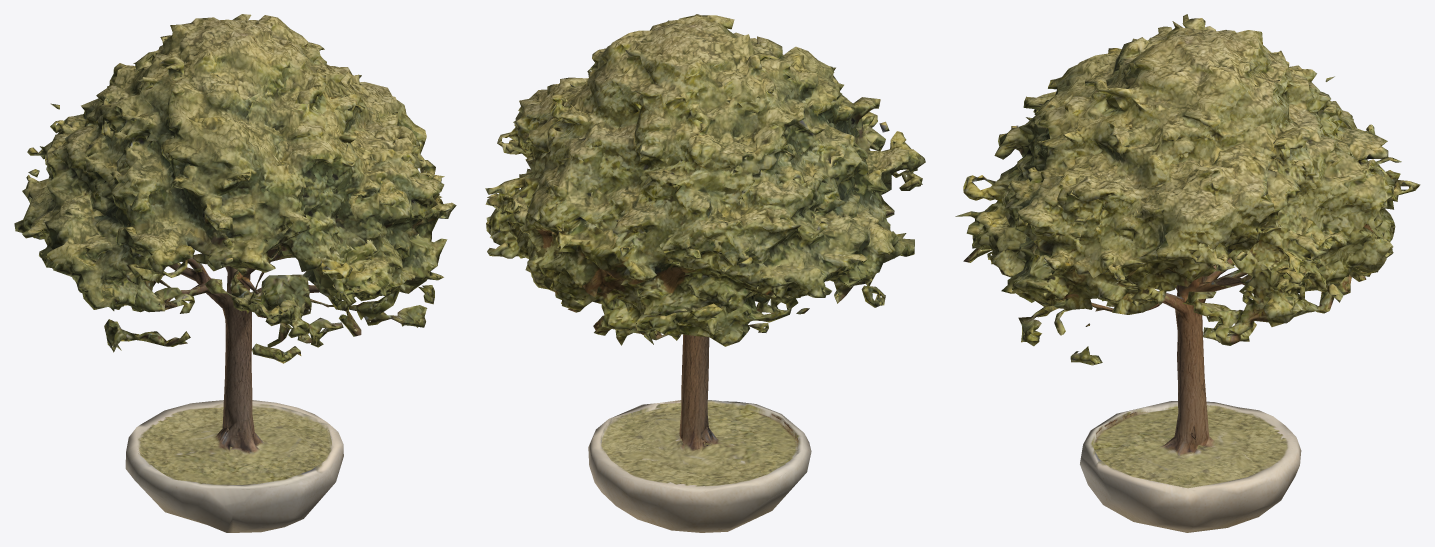
The model's file is VAR_Pool_BowlTree.fbx.
3 views of the same model, side by side, from view 1: azimuth 30°, elevation 25°; view 2: azimuth 150°, elevation 25°; view 3: azimuth 270°, elevation 25° (orthographic).
Parts seen in each view (by area): view 1: texture_mapping; view 2: texture_mapping; view 3: texture_mapping.
Boxes of the visible parts, x1,y1,x2,y2 form: texture_mapping: (14, 14, 456, 532); texture_mapping: (485, 14, 925, 532); texture_mapping: (955, 14, 1420, 532).
Size of the model in its own units: 0.8075 by 0.8817 by 0.9865.
Materials: 1 (1 with a texture image).
